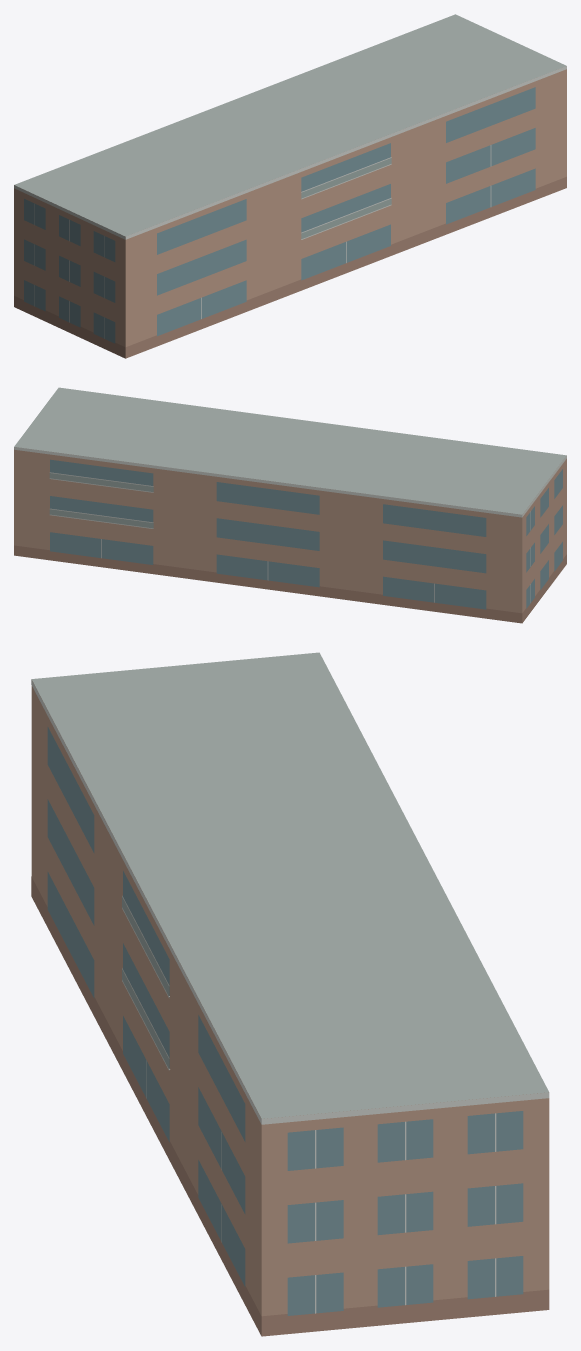
Rendered from survey-upis-32709183.glb.
The picture shows the model from 3 angles, top to bottom: view 1: azimuth 30°, elevation 25°; view 2: azimuth 150°, elevation 25°; view 3: azimuth 270°, elevation 25°; orthographic projection. The views are drawn at different scales.
Visible parts, largest first — view 1: survey-upis-32709183.tmp; view 2: survey-upis-32709183.tmp; view 3: survey-upis-32709183.tmp.
Part boxes in pixels (bbox=[...]): survey-upis-32709183.tmp: bbox=[14, 14, 566, 358]; survey-upis-32709183.tmp: bbox=[14, 387, 566, 623]; survey-upis-32709183.tmp: bbox=[31, 652, 549, 1336].
Bounding box in the file's own units: 42.1 × 9.15 × 19.75.
